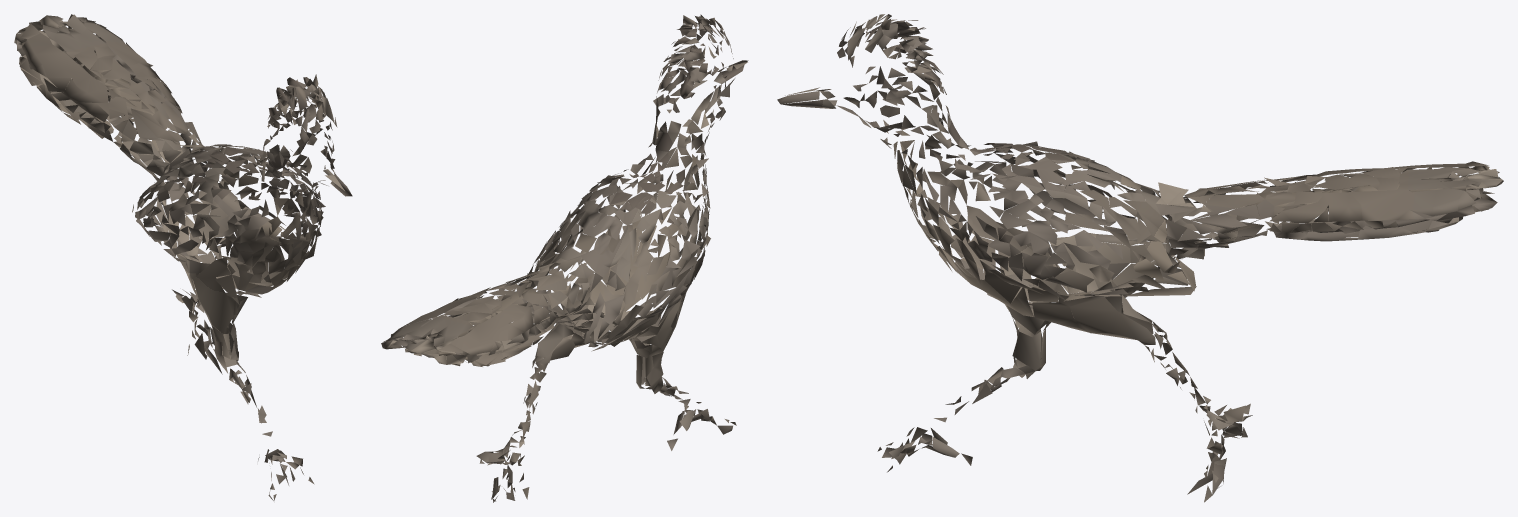
File: roadrunner.glb
The picture shows the model from 3 angles, left to right: view 1: azimuth 30°, elevation 25°; view 2: azimuth 150°, elevation 25°; view 3: azimuth 270°, elevation 25°; orthographic projection. The views are drawn at different scales.
Visible parts, largest first — view 1: LO.001; view 2: LO.001; view 3: LO.001.
Part boxes in pixels (x1,y1,x2,y2): LO.001: (14, 14, 352, 500); LO.001: (381, 14, 748, 502); LO.001: (777, 14, 1503, 502).
Size of the model in its own units: 0.4485 by 1.33 by 1.89.
1 material, 1 textured.
